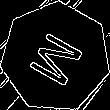M_SE: (23, 24, 89, 90)
